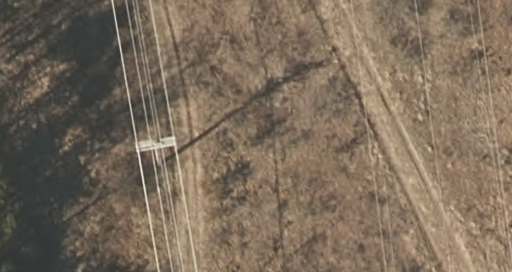DT: (135, 134, 177, 156)
